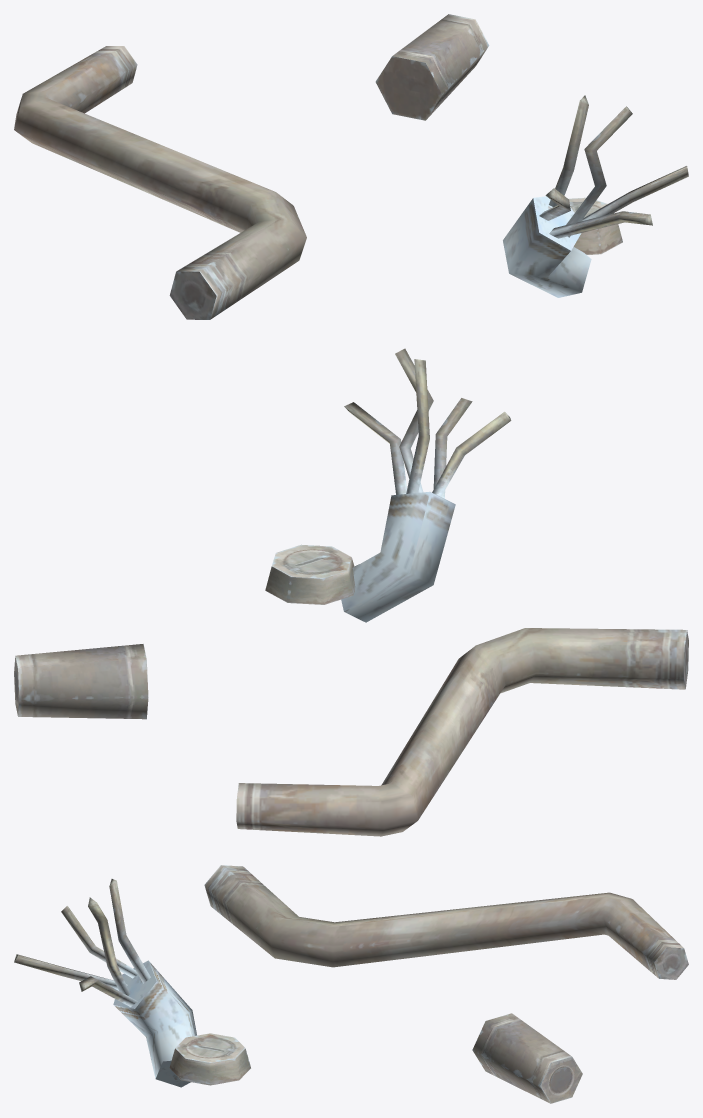
The model's file is hth_item_freshraider_junk_15.glb.
3 views of the same model, one above another, from view 1: azimuth 30°, elevation 25°; view 2: azimuth 150°, elevation 25°; view 3: azimuth 270°, elevation 25° (orthographic). The views are drawn at different scales.
Visible parts, largest first — view 1: hth_item_freshraider_junk_15; view 2: hth_item_freshraider_junk_15; view 3: hth_item_freshraider_junk_15.
Part boxes in pixels (bbox=[...]): hth_item_freshraider_junk_15: bbox=[14, 14, 688, 319]; hth_item_freshraider_junk_15: bbox=[14, 348, 688, 836]; hth_item_freshraider_junk_15: bbox=[14, 865, 688, 1103].
Bounding box in the file's own units: 0.1713 × 0.0783 × 0.2365.
Materials: 1 (1 with a texture image).
